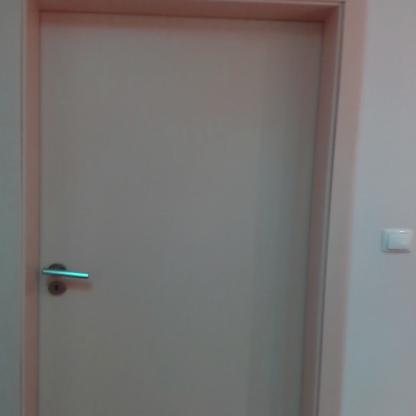door: (37, 8, 314, 416)
lever: (40, 264, 96, 281)
